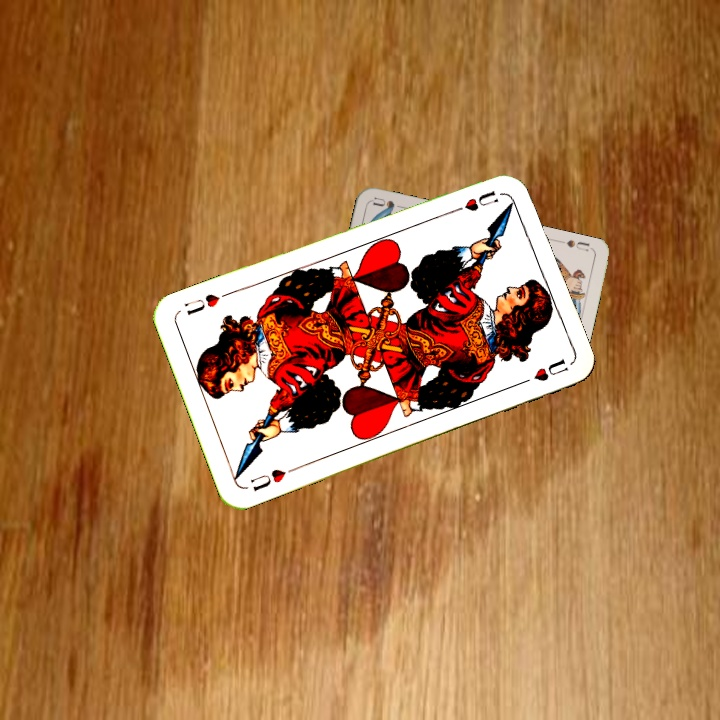HU: (247, 463, 299, 494), (460, 186, 501, 214)
SU: (562, 236, 592, 254)
